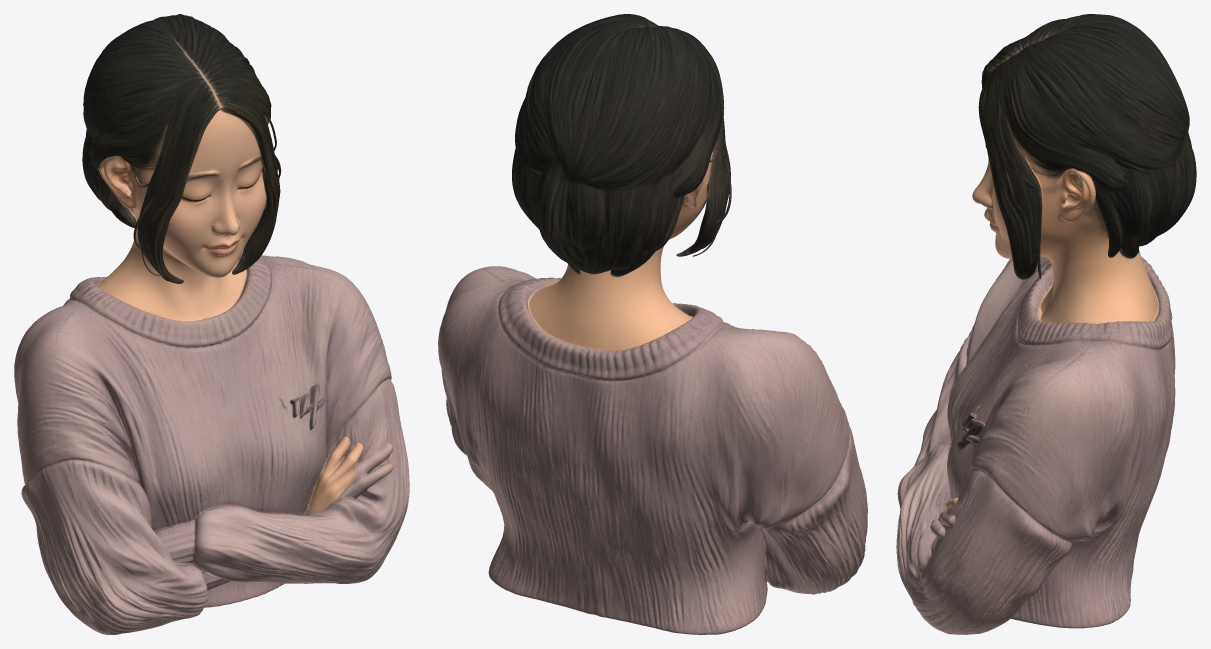
3 views of the same model, side by side, from view 1: azimuth 30°, elevation 25°; view 2: azimuth 150°, elevation 25°; view 3: azimuth 270°, elevation 25° (orthographic). The views are drawn at different scales.
Bounding box in the file's own units: 1.37 × 1.9 × 0.9464.
1 material, 1 textured.
